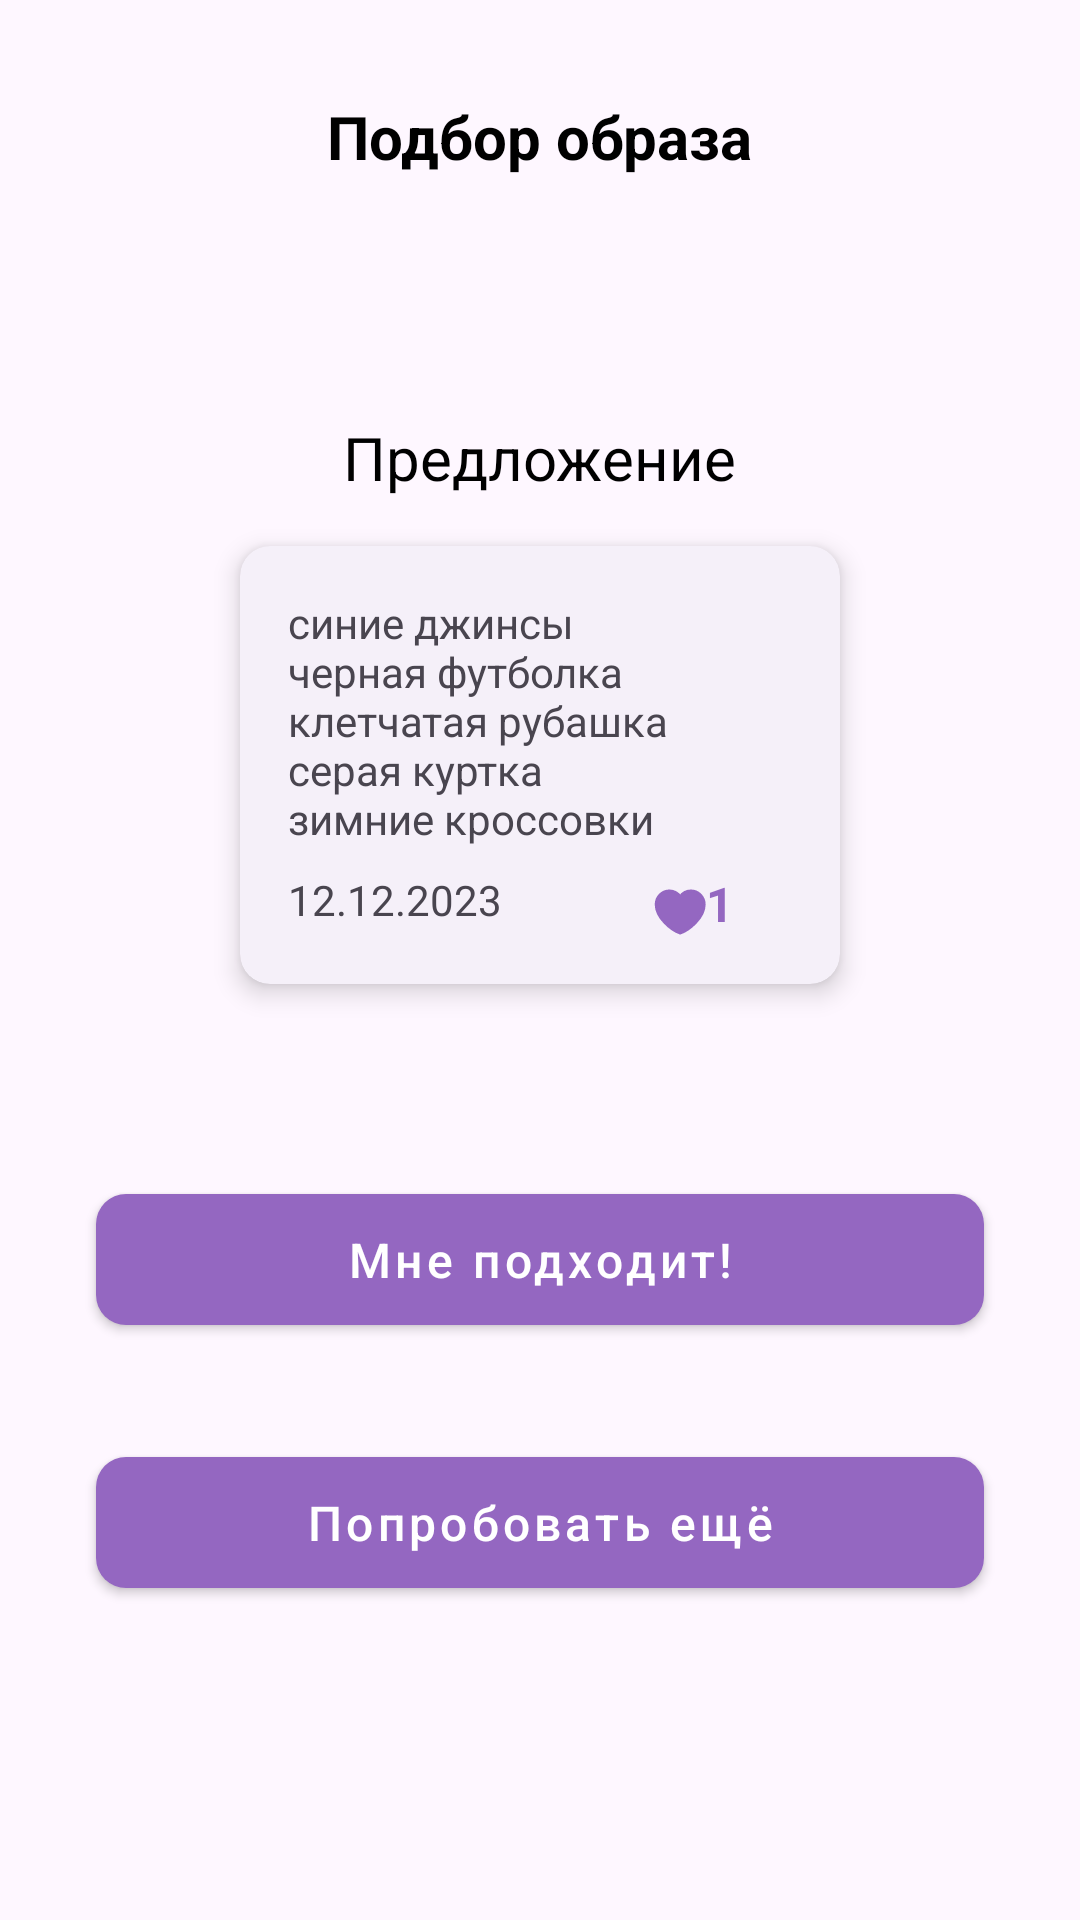

Icon bounding boxes for this 1080x1920 phone screenshot, format (x1, y1, x2, y2):
heart: (654, 889, 706, 935)
